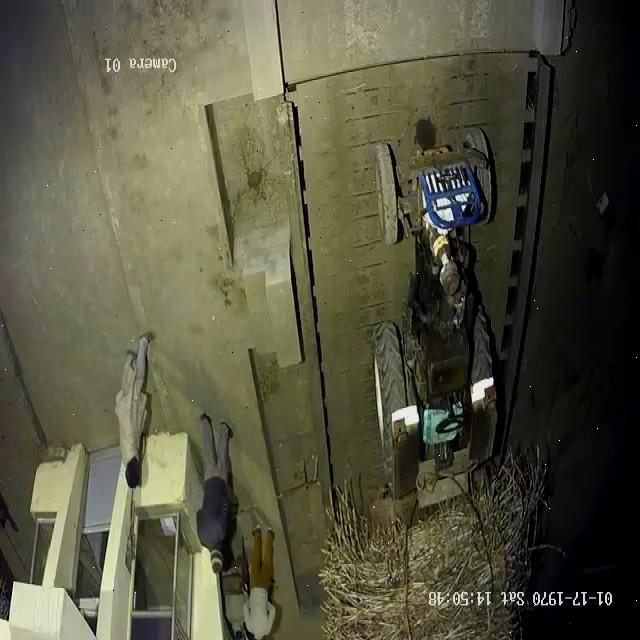Tratores - v5 YOLO V8L 2024-11-13: (371, 115, 508, 502)
